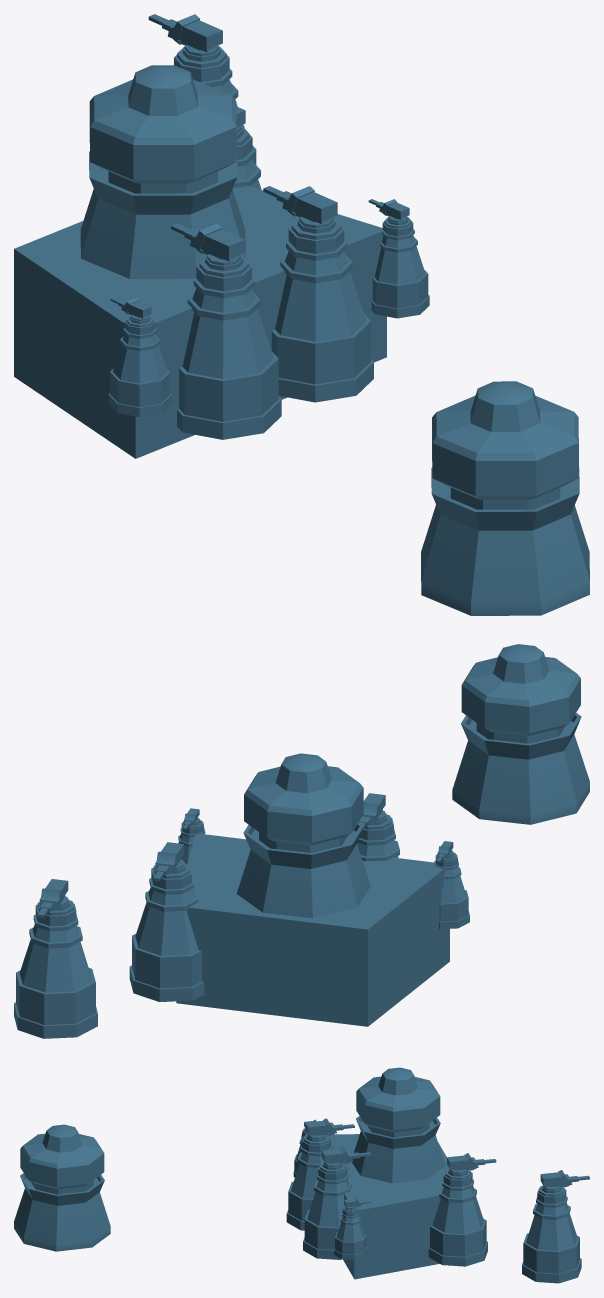
File: citadel.fbx
3 views of the same model, one above another, from view 1: azimuth 30°, elevation 25°; view 2: azimuth 150°, elevation 25°; view 3: azimuth 270°, elevation 25° (orthographic). The views are drawn at different scales.
Visible parts, largest first — view 1: pCylinder17, pCube1, pCylinder8, turret4, turret3, turret, turret2, turret6, turret_gun4, turret_gun3, turret_gun6, turret5; view 2: pCube1, pCylinder17, pCylinder8, turret6, turret5, turret, turret4, turret_gun6, turret_gun5, turret_gun4, turret2; view 3: pCylinder17, pCylinder8, pCube1, turret6, turret5, turret3, turret4, turret2, turret_gun3, turret_gun4, turret_gun5, turret_gun6.
Part boxes in pixels (bbox=[...]): pCylinder17: bbox=[421, 381, 589, 615]; pCube1: bbox=[14, 186, 386, 458]; pCylinder8: bbox=[80, 65, 245, 278]; turret4: bbox=[177, 254, 281, 439]; turret3: bbox=[271, 216, 373, 402]; turret: bbox=[108, 314, 171, 416]; turret2: bbox=[371, 216, 429, 318]; turret6: bbox=[174, 44, 256, 164]; turret_gun4: bbox=[171, 223, 245, 261]; turret_gun3: bbox=[263, 186, 337, 223]; turret_gun6: bbox=[148, 14, 222, 52]; turret5: bbox=[233, 126, 261, 189]; pCube1: bbox=[176, 833, 449, 1026]; pCylinder17: bbox=[452, 644, 589, 824]; pCylinder8: bbox=[236, 753, 370, 918]; turret6: bbox=[14, 896, 97, 1038]; turret5: bbox=[129, 859, 204, 1001]; turret: bbox=[434, 850, 469, 929]; turret4: bbox=[357, 810, 399, 861]; turret_gun6: bbox=[37, 879, 68, 917]; turret_gun5: bbox=[153, 842, 183, 881]; turret_gun4: bbox=[359, 793, 385, 830]; turret2: bbox=[178, 818, 205, 863]; pCylinder17: bbox=[14, 1124, 110, 1251]; pCylinder8: bbox=[352, 1067, 445, 1183]; pCube1: bbox=[328, 1134, 449, 1279]; turret6: bbox=[522, 1185, 581, 1283]; turret5: bbox=[428, 1168, 487, 1266]; turret3: bbox=[303, 1162, 351, 1259]; turret4: bbox=[286, 1133, 332, 1230]; turret2: bbox=[334, 1206, 366, 1259]; turret_gun3: bbox=[321, 1146, 370, 1163]; turret_gun4: bbox=[305, 1118, 354, 1135]; turret_gun5: bbox=[447, 1153, 496, 1170]; turret_gun6: bbox=[540, 1170, 589, 1187].
Bounding box in the file's own units: 78.39 × 62.73 × 202.
